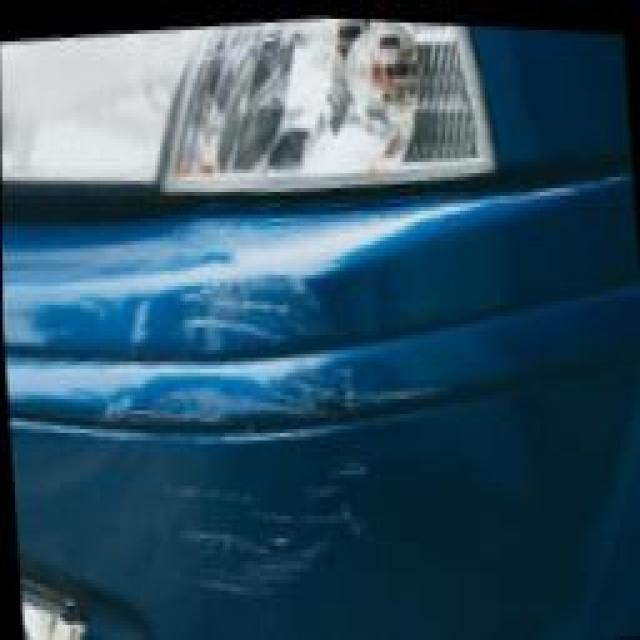Bumper: (45, 166, 441, 638)
